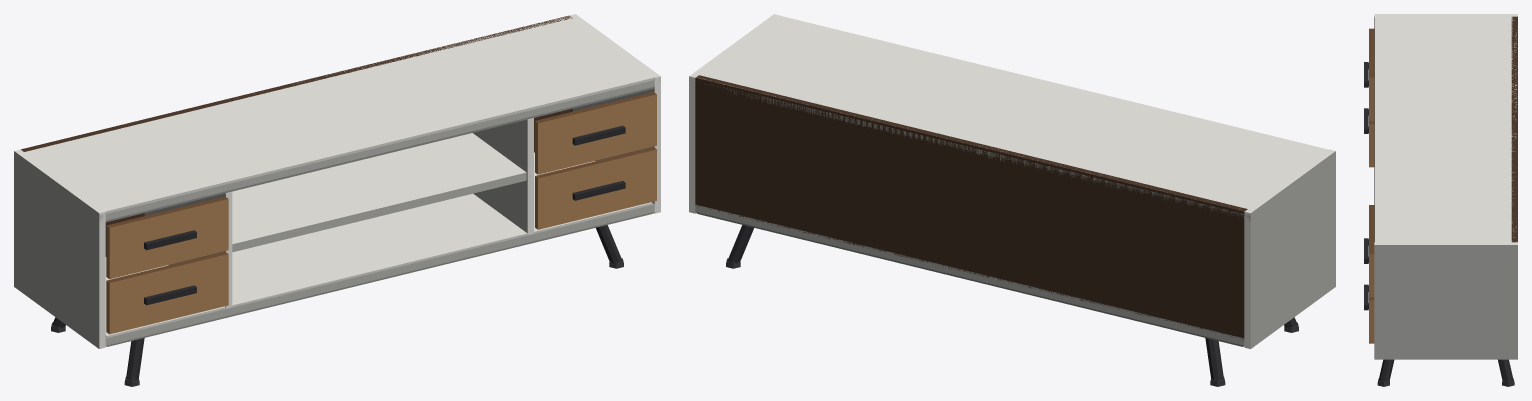
The model's file is FN_Cabinet_TV.obj.
3 renders of one model, left to right at view 1: azimuth 30°, elevation 25°; view 2: azimuth 150°, elevation 25°; view 3: azimuth 270°, elevation 25°, orthographic. The views are drawn at different scales.
Parts seen in each view (by area): view 1: FN_Cabinet_TV; view 2: FN_Cabinet_TV; view 3: FN_Cabinet_TV.
Part boxes in pixels (<box>): FN_Cabinet_TV: <box>14,14,660,386</box>; FN_Cabinet_TV: <box>689,14,1335,386</box>; FN_Cabinet_TV: <box>1364,14,1517,386</box>.
Size of the model in its own units: 1.6 by 0.5 by 0.45.
Materials: 1 (1 with a texture image).
